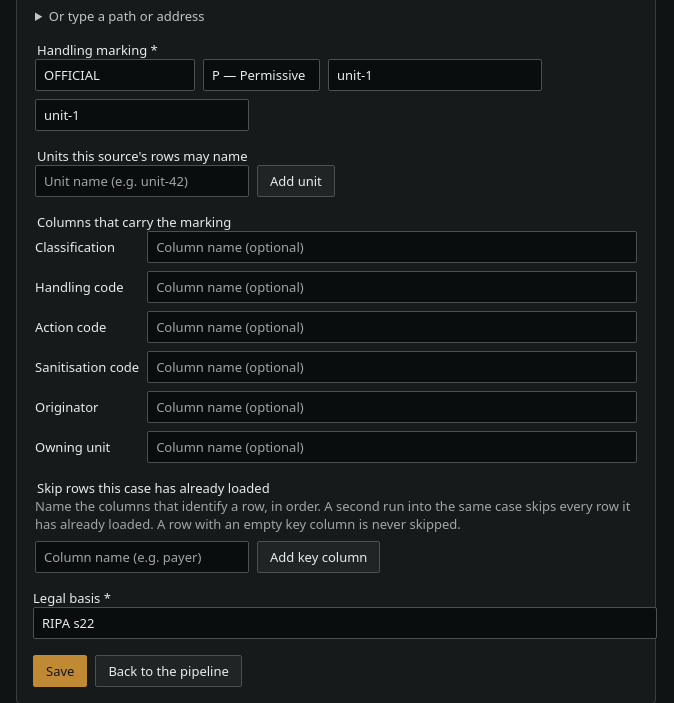
Test case: Connect: the deduplicate control › shows the server's refusal as it was said, and keeps the author's key on screen
(page scrolled)
Expected: the element "Skip rows this case has already loaded" is shown, [35, 478, 637, 572]
Type "payeee" into the field named "Key column name".
click(142, 556); type("payeee")  # box [35, 540, 249, 572]
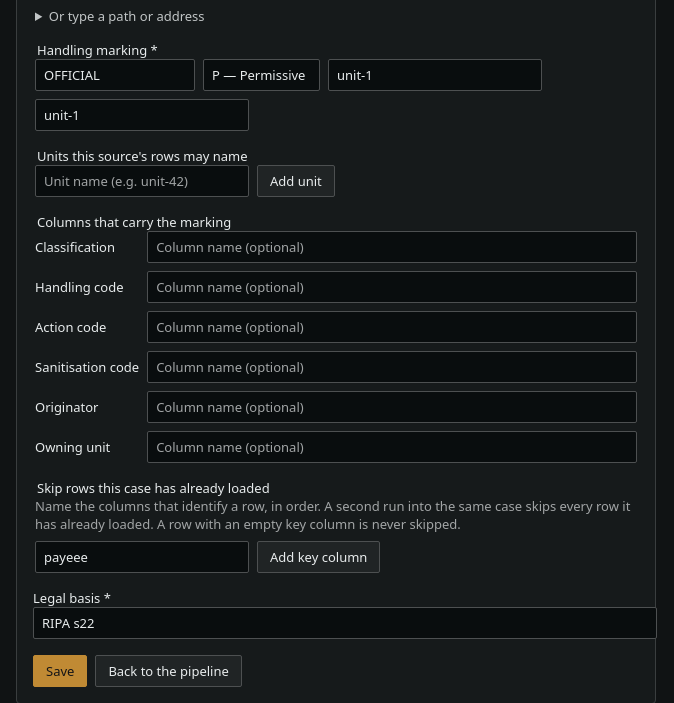
Click the button "Add key column".
click(319, 556)  # box [257, 540, 380, 572]
(page scrolled)
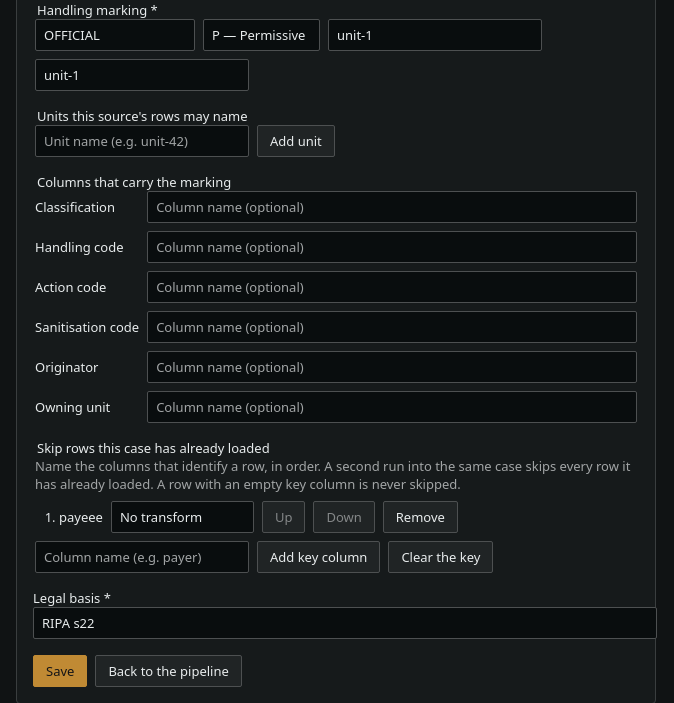
Click the button "Save".
click(60, 670)  # box [33, 654, 87, 686]
(page scrolled)
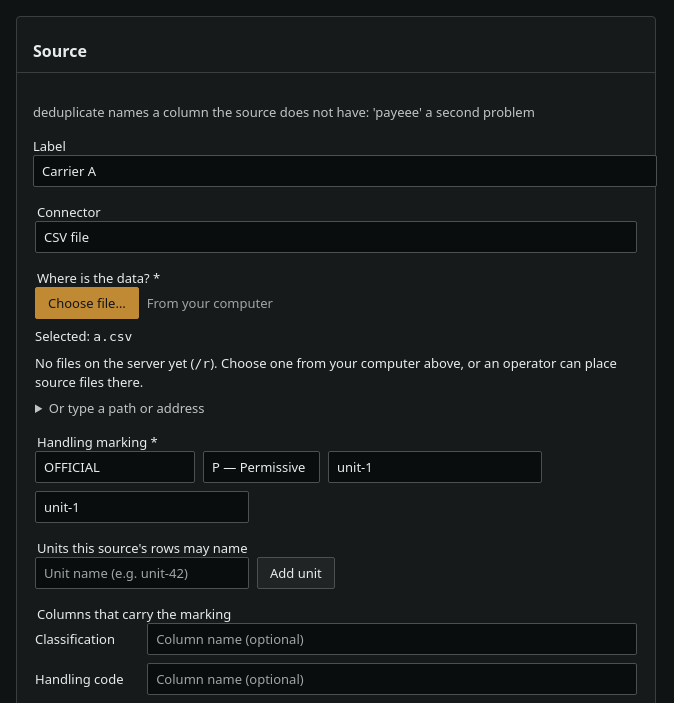
Now the message shows "deduplicate names a column the source does not have: 'payeee'", box [33, 102, 535, 120]
Now the message shows "a second problem", box [33, 102, 535, 120]
